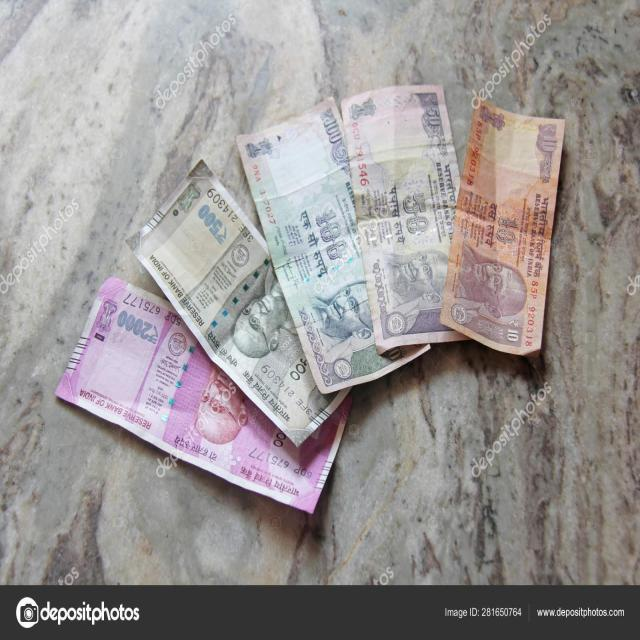50IndianRupees: (359, 86, 449, 348)
